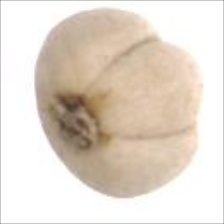L5: (84, 35, 205, 142), (38, 90, 111, 159)
L6: (31, 6, 205, 200)
